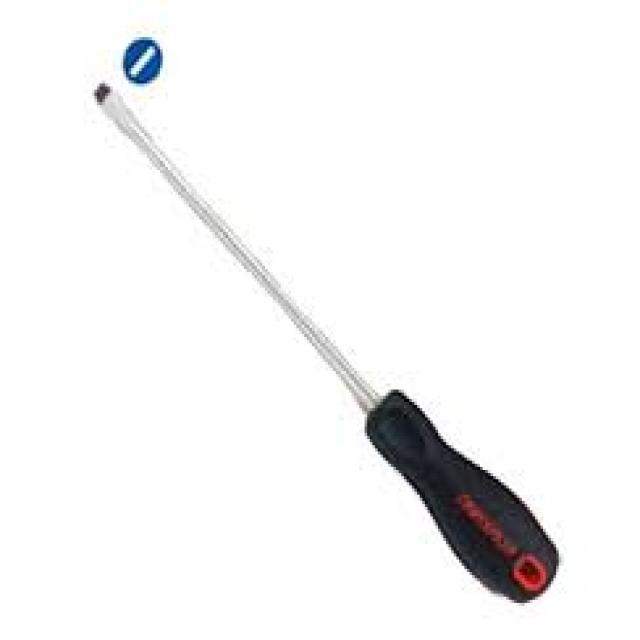screwdriver: (91, 80, 562, 603)
